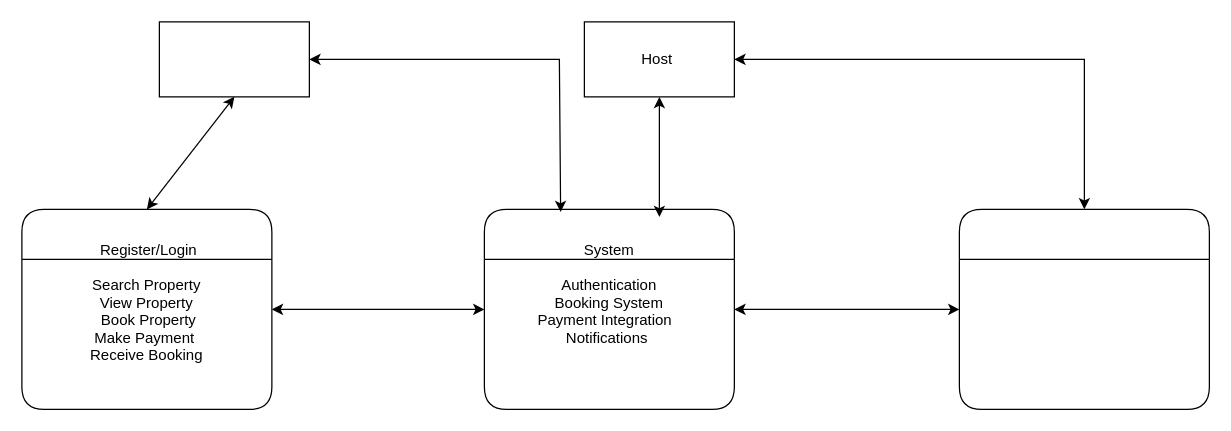
This 1231x431 diagram has some shape labels left out. The centre of each missing label's shape, as x and y in pixels:
"Guest" goes at pixel 233 59.
"List Property Manage Listings" goes at pixel 1083 308.
